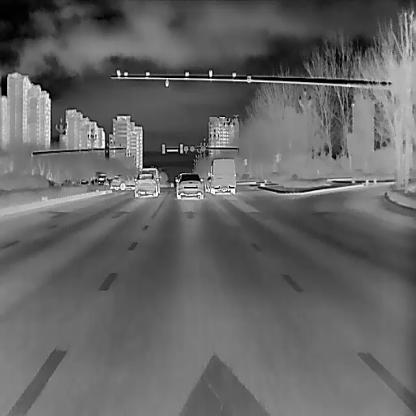car: (208, 157, 236, 193), (174, 172, 204, 198), (133, 173, 160, 197), (140, 166, 160, 194), (111, 173, 135, 190)
